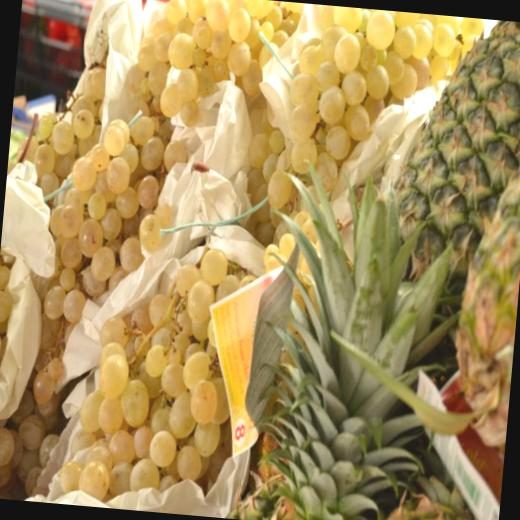Mango: (241, 1, 520, 520), (444, 140, 520, 453), (378, 466, 489, 520)
Orange: (0, 0, 481, 520)
